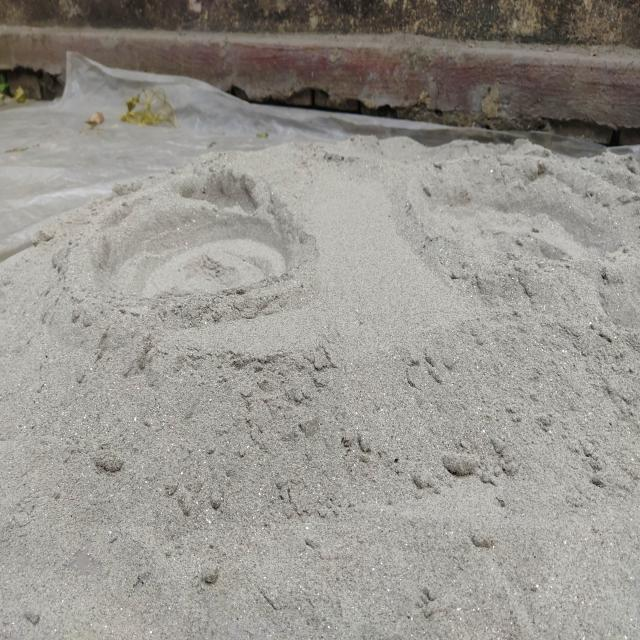C20: (65, 168, 291, 295), (410, 147, 624, 262)
